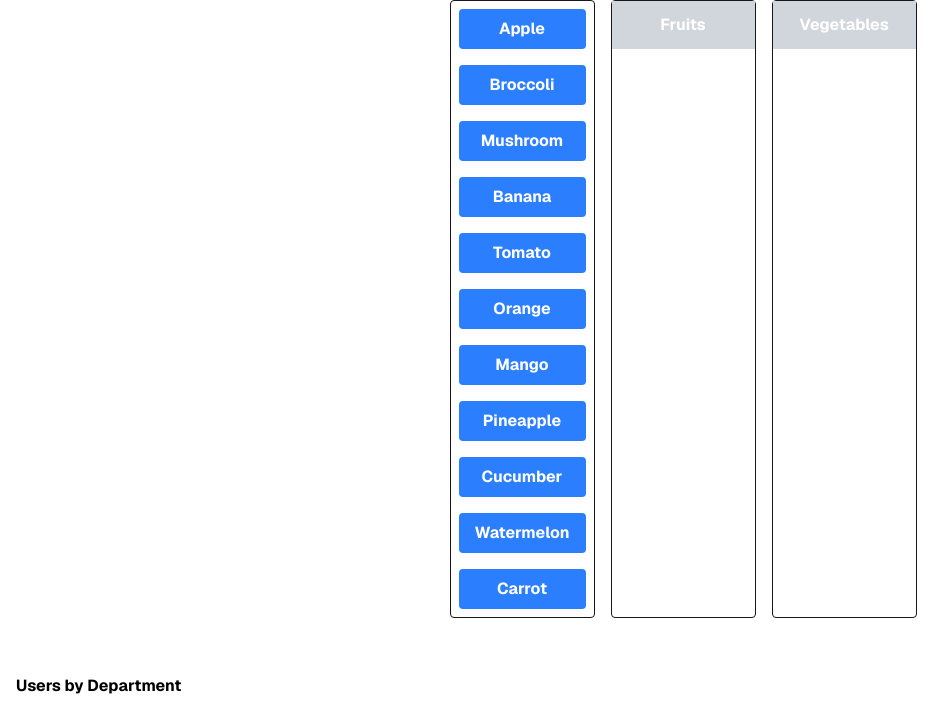
Test: Home (page) › moves a vegetable into the Vegetables column when its button is clicked
The image size is (934, 711).
Click the button "Broccoli".
click(522, 85)  # box [458, 65, 586, 105]
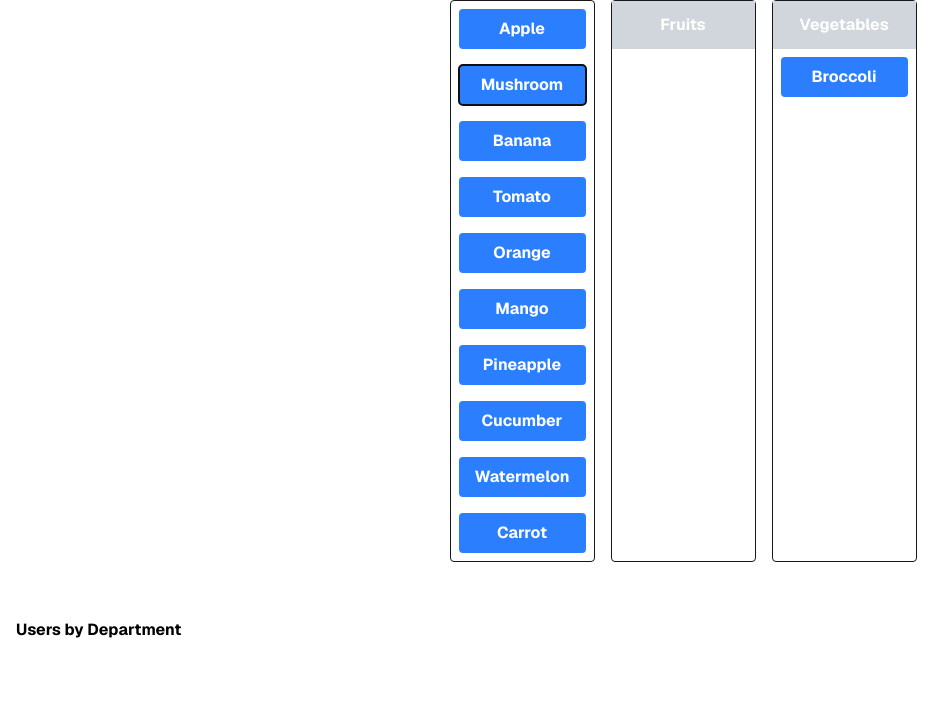
Check: the button "Broccoli" is shown, box [780, 57, 908, 97]
